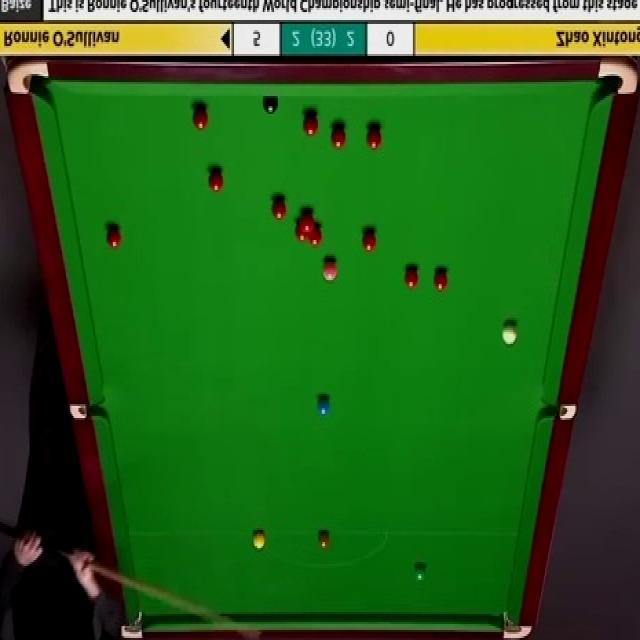black-ball: (262, 98, 278, 114)
blue-ball: (316, 396, 329, 417)
brown-ball: (316, 529, 331, 551)
green-ball: (413, 565, 428, 585)
pink-ball: (321, 260, 338, 282)
red-ball: (270, 195, 288, 222), (207, 168, 225, 194), (330, 123, 347, 149), (192, 107, 209, 132), (300, 206, 315, 234), (302, 112, 318, 138), (432, 268, 448, 294), (306, 224, 323, 248), (105, 226, 122, 248), (362, 230, 377, 254), (404, 268, 420, 288), (367, 128, 382, 149), (296, 219, 309, 242)
white-ball: (501, 320, 517, 348)
yellow-ball: (250, 530, 266, 550)
